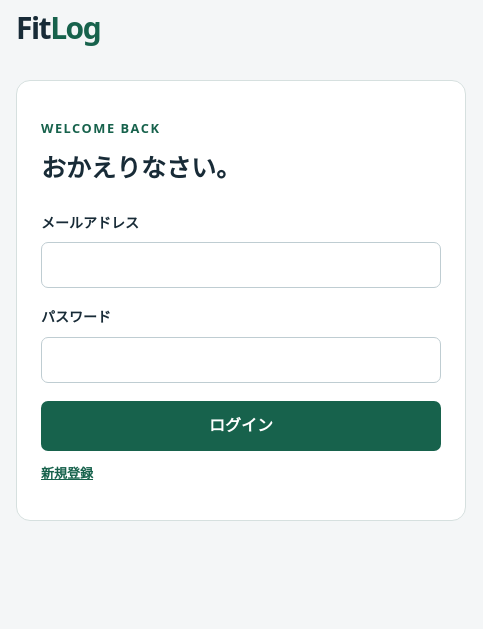
Test: approved minimal authentication › keeps the login screen when the server rejects credentials
Type "river@example.test" into the field labelled "メールアドレス". click: (241, 265)
box: [41,242,441,288]
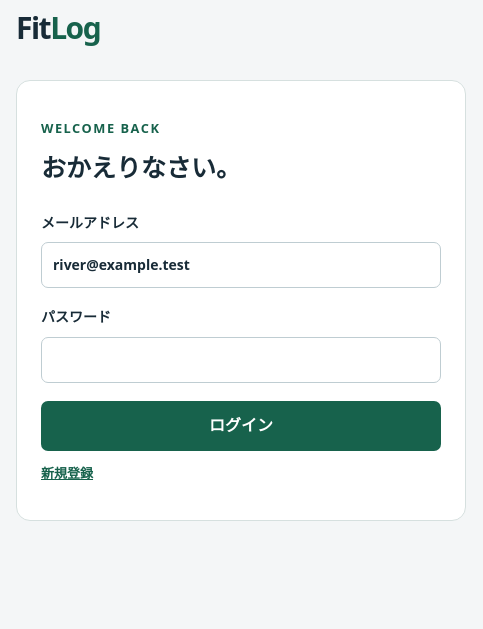
Type "incorrect-password-42" into the password field labelled "パスワード". click: (241, 360)
box: [41,337,441,383]
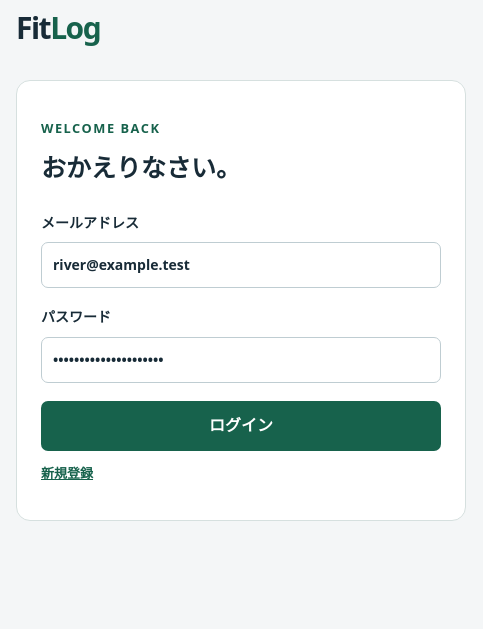
Click the button "ログイン". click: (241, 426)
box: [41,401,441,451]
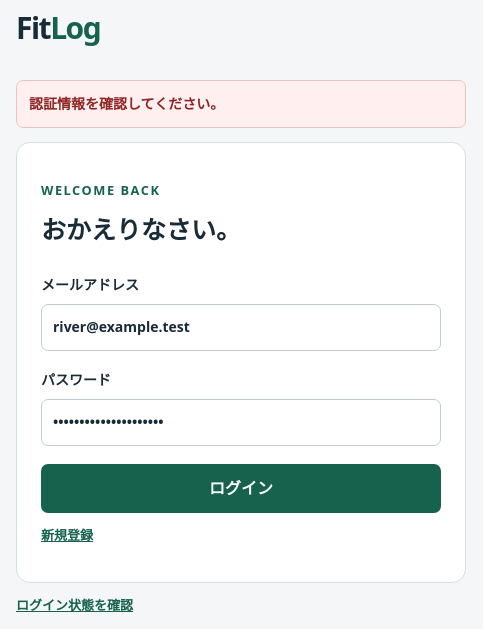
expect the button "ログイン" is enabled: met, box [41,464,441,513]
expect the message reads "認証情報を確認してください。": met, box [29,94,224,113]
